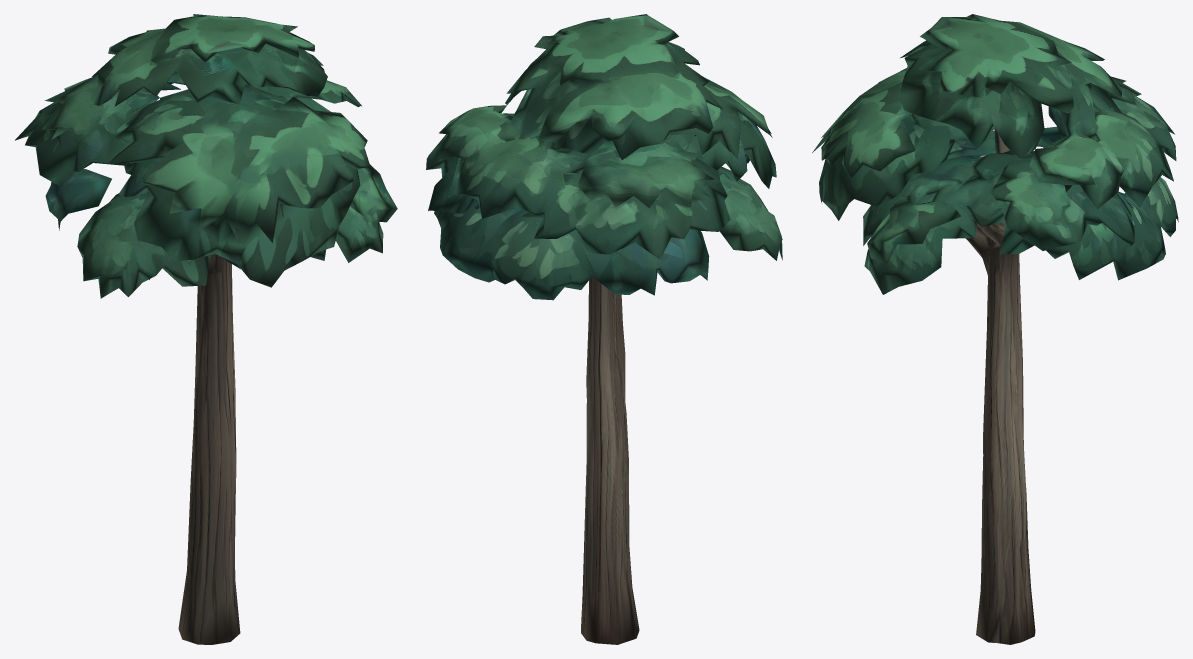
3 renders of one model, left to right at view 1: azimuth 30°, elevation 25°; view 2: azimuth 150°, elevation 25°; view 3: azimuth 270°, elevation 25°, orthographic. The views are drawn at different scales.
Parts seen in each view (by area): view 1: Mesh_0; view 2: Mesh_0; view 3: Mesh_0.
Part boxes in pixels (x1=…): Mesh_0: x1=15, y1=14, x2=397, y2=644; Mesh_0: x1=426, y1=14, x2=782, y2=644; Mesh_0: x1=812, y1=14, x2=1178, y2=644.
Size of the model in its own units: 1.04 by 1.91 by 1.06.
1 material, 1 textured.
